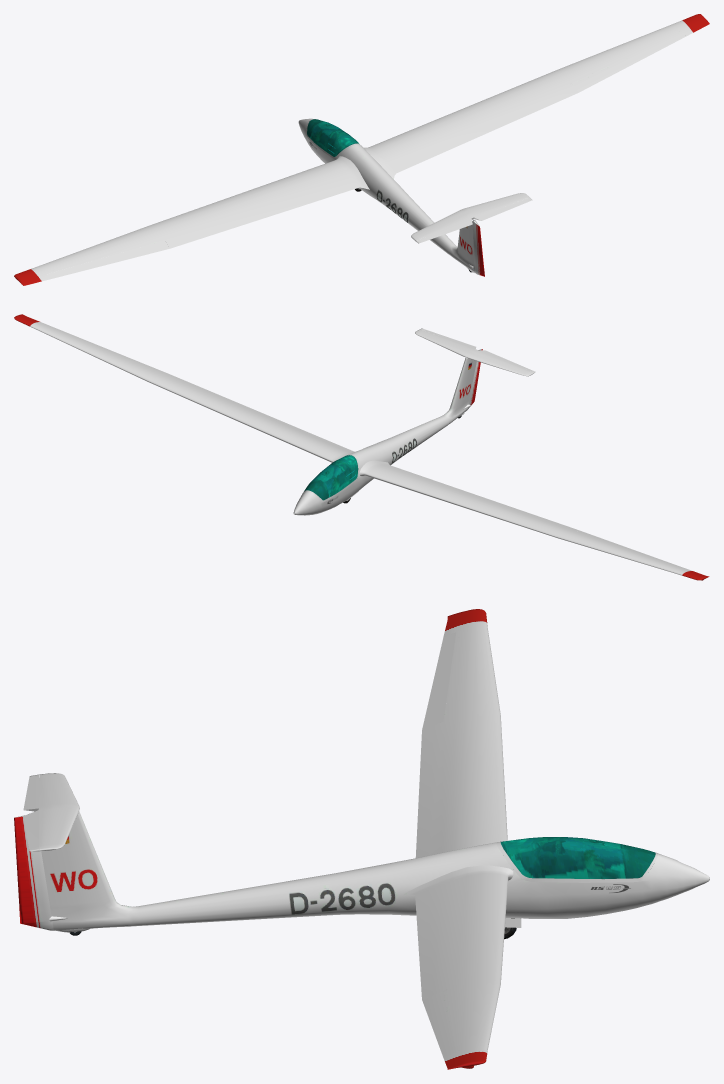
The model's file is FSDS_object.gltf.
The picture shows the model from 3 angles, top to bottom: view 1: azimuth 30°, elevation 25°; view 2: azimuth 150°, elevation 25°; view 3: azimuth 270°, elevation 25°; orthographic projection. The views are drawn at different scales.
Parts seen in each view (by area): view 1: node3, node7, node11; view 2: node3, node7, node11; view 3: node3, node7, node11, node4.
Part boxes in pixels (x1,y1,x2,y2): node3: (14, 14, 709, 285); node7: (298, 118, 484, 276); node11: (307, 119, 358, 156); node3: (14, 314, 709, 580); node7: (293, 349, 482, 515); node11: (304, 455, 358, 500); node3: (23, 609, 513, 1069); node7: (14, 811, 709, 932); node11: (500, 837, 655, 878); node4: (565, 882, 636, 907).
Bounding box in the file's own units: 14.87 × 2.05 × 6.91.
